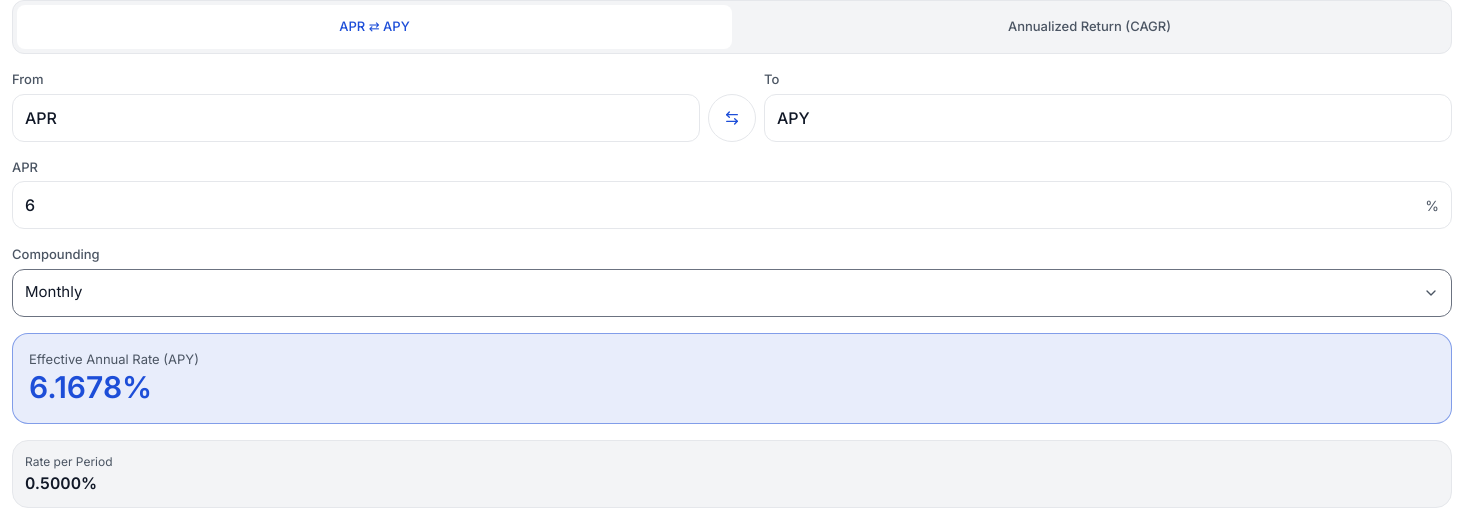
Test: shows the APR to APY result and swaps direction
Expected: the text "Effective Annual Rate (APY)" is shown, [29, 350, 199, 366]
Expected: the text "6.1678%" is shown, [29, 369, 152, 405]
Click the button named "Swap direction" at (732, 118), box [708, 94, 756, 142]
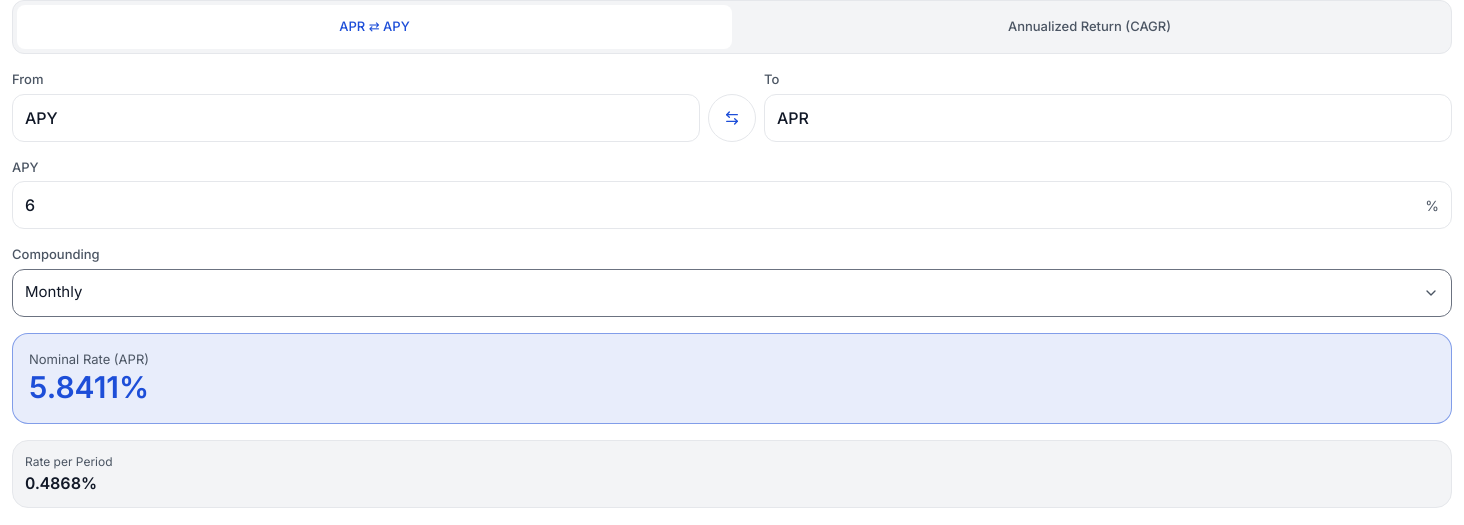
Expected: the field labelled "APY" is shown, [25, 193, 1417, 217]
Now the text "Nominal Rate (APR)" is shown, box [29, 350, 149, 366]
